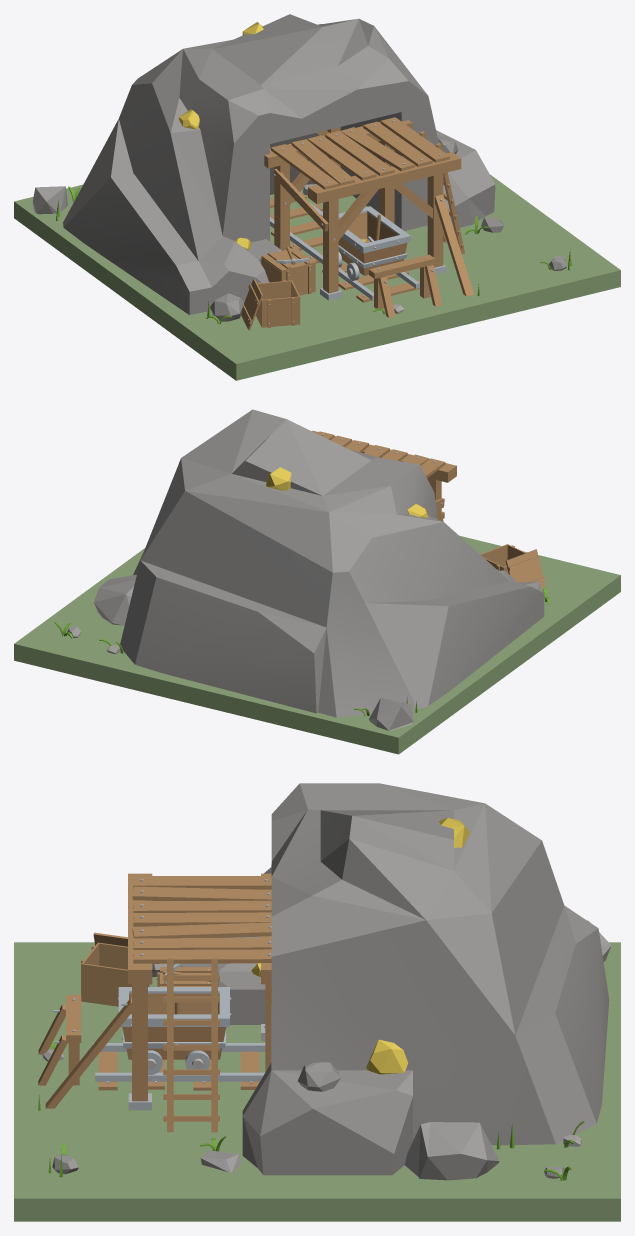
File: Mine.fbx
3 views of the same model, one above another, from view 1: azimuth 30°, elevation 25°; view 2: azimuth 150°, elevation 25°; view 3: azimuth 270°, elevation 25° (orthographic). The views are drawn at different scales.
Visible parts, largest first — view 1: Box050, Box004, Box079, Box076, Box275, Box074, Box077, Box054, Box092, Box087, Box332, Box088 (+16 smaller); view 2: Box050, Box004, GeoSphere016, GeoSphere020, Object009, Box275, Box076; view 3: Box050, Box004, Box079, GeoSphere016, Box091, Box275, Box088, Box086, Box077, Box083, Box085, Box082 (+13 smaller).
Boxes of the visible parts, left/top/right/bottom form: Box050: left=63, top=14, right=495, bottom=315; Box004: left=14, top=174, right=620, bottom=380; Box079: left=338, top=206, right=410, bottom=275; Box076: left=308, top=152, right=461, bottom=203; Box275: left=256, top=280, right=300, bottom=327; Box074: left=323, top=199, right=338, bottom=293; Box077: left=427, top=173, right=443, bottom=267; Box054: left=274, top=163, right=289, bottom=250; Box092: left=435, top=194, right=473, bottom=296; Box087: left=363, top=121, right=432, bottom=166; Box332: left=261, top=257, right=315, bottom=295; Box088: left=380, top=117, right=449, bottom=162; Box050: left=120, top=409, right=544, bottom=717; Box004: left=14, top=535, right=620, bottom=754; GeoSphere016: left=93, top=574, right=136, bottom=625; GeoSphere020: left=369, top=697, right=413, bottom=730; Object009: left=505, top=549, right=545, bottom=588; Box275: left=480, top=544, right=525, bottom=573; Box076: left=312, top=430, right=456, bottom=482; Box050: left=180, top=783, right=609, bottom=1175; Box004: left=14, top=942, right=620, bottom=1221; Box079: left=118, top=987, right=229, bottom=1059; GeoSphere016: left=404, top=1122, right=499, bottom=1180; Box091: left=163, top=958, right=219, bottom=1132; Box275: left=81, top=942, right=150, bottom=1006; Box088: left=133, top=949, right=271, bottom=963; Box086: left=132, top=922, right=271, bottom=938; Box077: left=132, top=984, right=147, bottom=1101; Box083: left=132, top=886, right=271, bottom=900; Box085: left=133, top=912, right=271, bottom=926; Box082: left=133, top=876, right=271, bottom=889.
Size of the model in its own units: 360 by 190 by 360.
